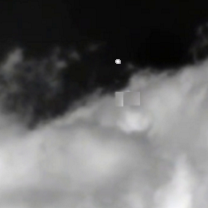Target: (114, 58, 122, 66)
